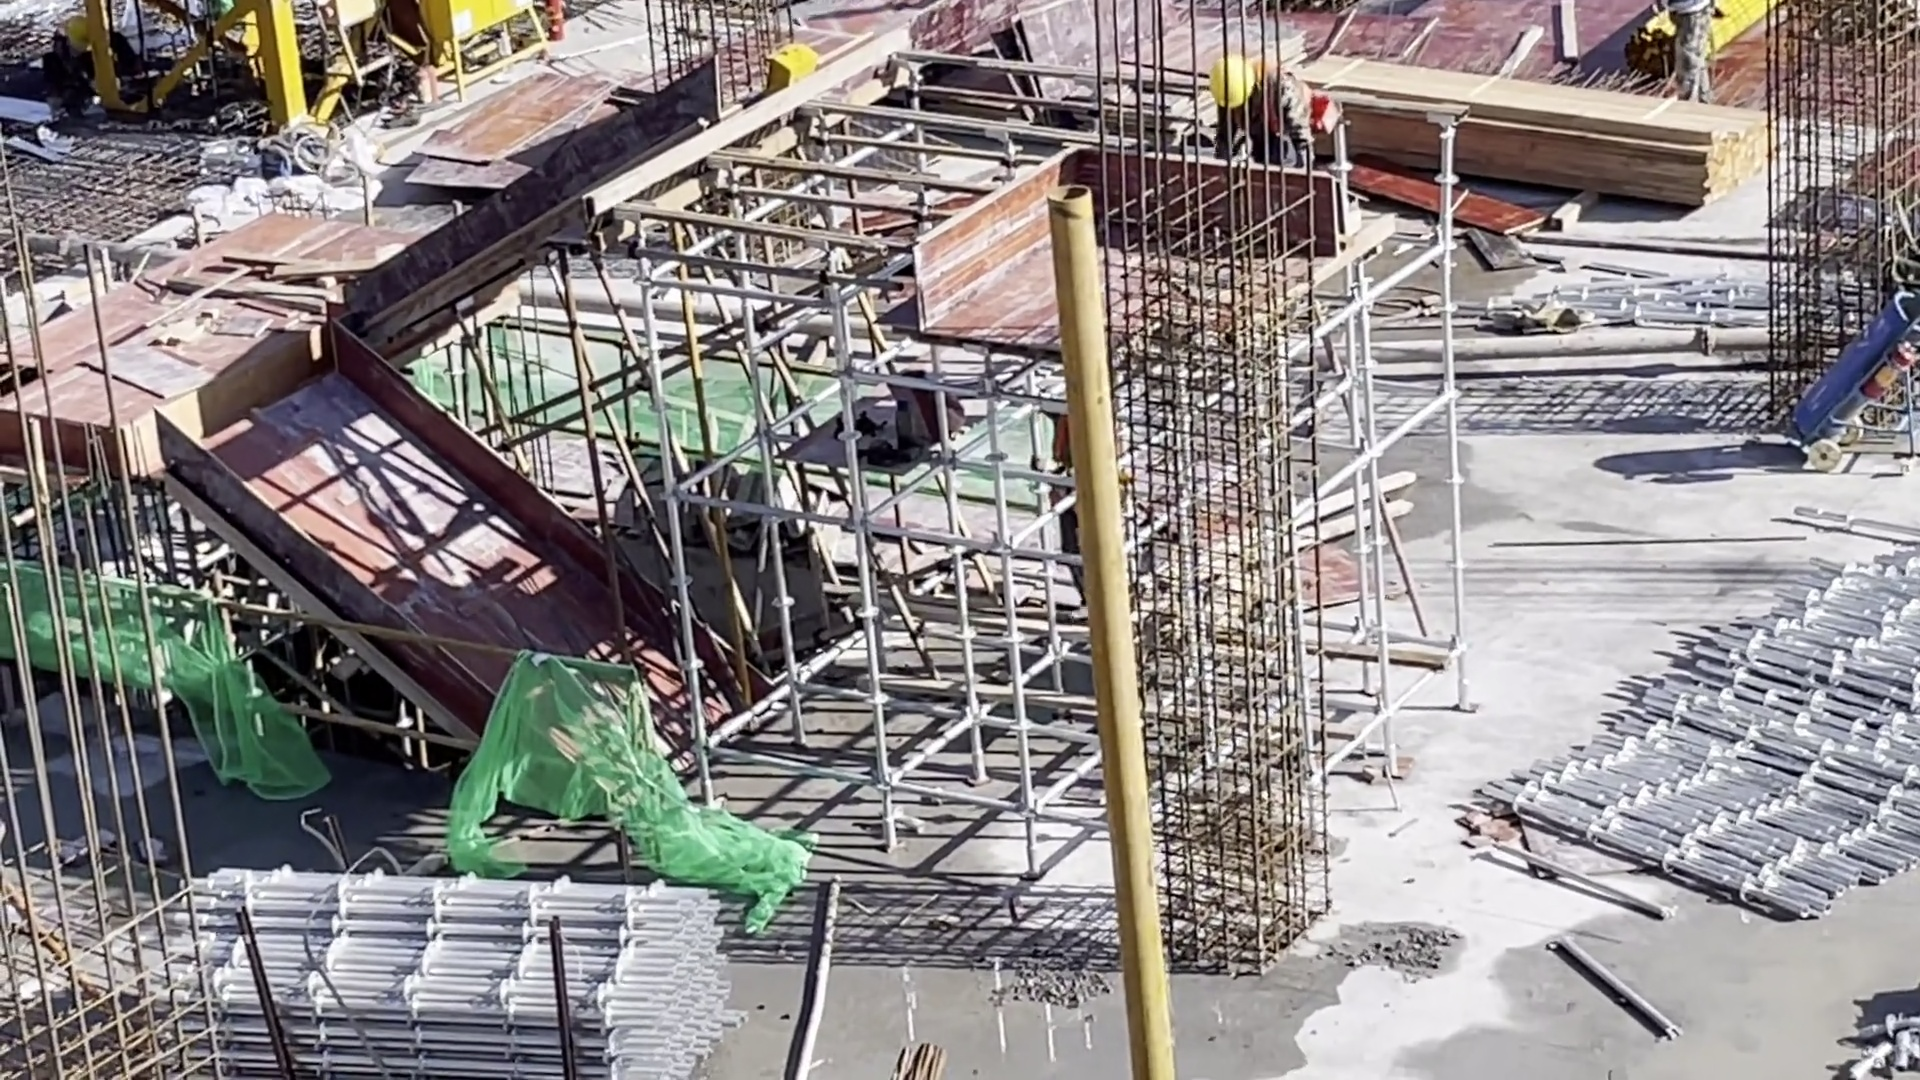ebox: (422, 5, 558, 91)
helmet: (1214, 58, 1257, 108), (62, 14, 96, 50)
person: (1211, 52, 1317, 160), (47, 14, 137, 116), (1662, 5, 1729, 98)
scaffold: (1477, 535, 1915, 926), (162, 855, 748, 1072)
vest: (1269, 58, 1311, 156)
wood: (1295, 47, 1773, 213)
